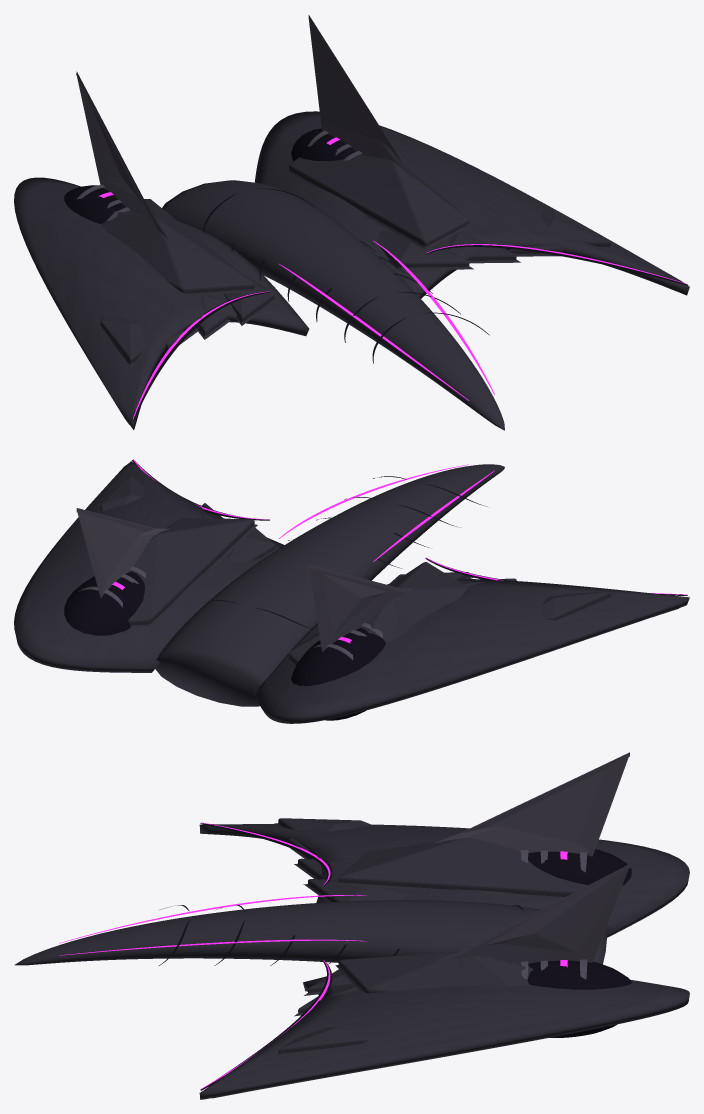
The model's file is wraith-v2.glb.
3 views of the same model, one above another, from view 1: azimuth 30°, elevation 25°; view 2: azimuth 150°, elevation 25°; view 3: azimuth 270°, elevation 25° (orthographic).
Visible parts, largest first — view 1: central spear.001, swept scalloped wing.002, swept scalloped wing.003, shoulder shell.003, shoulder shell.002, dorsal blade.003, dorsal blade.002, overlapping wing armor.012, overlapping wing armor.011, buried engine barrel.002, buried engine barrel.003, overlapping wing armor.015 (+5 smaller); view 2: central spear.001, swept scalloped wing.002, swept scalloped wing.003, shoulder shell.003, dorsal blade.002, shoulder shell.002, dorsal blade.003, buried engine barrel.003, buried engine barrel.002, overlapping wing armor.011, overlapping wing armor.012, overlapping wing armor.015 (+1 smaller); view 3: swept scalloped wing.003, central spear.001, swept scalloped wing.002, shoulder shell.002, dorsal blade.002, dorsal blade.003, shoulder shell.003, buried engine barrel.003, buried engine barrel.002, overlapping wing armor.015, overlapping wing armor.008, overlapping wing armor.011 (+3 smaller).
Boxes of the visible parts, x1,y1,x2,y2 form: central spear.001: (162,180,504,430); swept scalloped wing.002: (14,177,309,429); swept scalloped wing.003: (254,111,689,298); shoulder shell.003: (286,154,468,249); shoulder shell.002: (101,199,257,295); dorsal blade.003: (308,15,414,180); dorsal blade.002: (76,71,169,240); overlapping wing armor.012: (377,231,473,270); overlapping wing armor.011: (100,316,145,367); buried engine barrel.002: (64,185,125,223); buried engine barrel.003: (291,128,355,161); overlapping wing armor.015: (540,209,615,249); central spear.001: (155,464,504,706); swept scalloped wing.002: (253,579,689,723); swept scalloped wing.003: (14,461,284,672); shoulder shell.003: (128,518,257,627); dorsal blade.002: (308,564,413,652); shoulder shell.002: (286,562,468,667); dorsal blade.003: (76,508,169,598); buried engine barrel.003: (64,571,144,635); buried engine barrel.002: (291,627,385,720); overlapping wing armor.011: (540,591,614,620); overlapping wing armor.012: (225,528,276,561); overlapping wing armor.015: (100,475,145,511); swept scalloped wing.003: (199,976,689,1099); central spear.001: (14,900,606,965); swept scalloped wing.002: (199,824,689,937); shoulder shell.002: (336,838,587,899); dorsal blade.002: (433,752,629,856); dorsal blade.003: (433,864,629,963); shoulder shell.003: (335,951,533,993); buried engine barrel.003: (527,960,631,1037); buried engine barrel.002: (528,849,631,885); overlapping wing armor.015: (274,1027,372,1056); overlapping wing armor.008: (303,879,408,902); overlapping wing armor.011: (274,818,372,831).
Bounding box in the file's own units: 3.08 × 0.9833 × 3.28.
